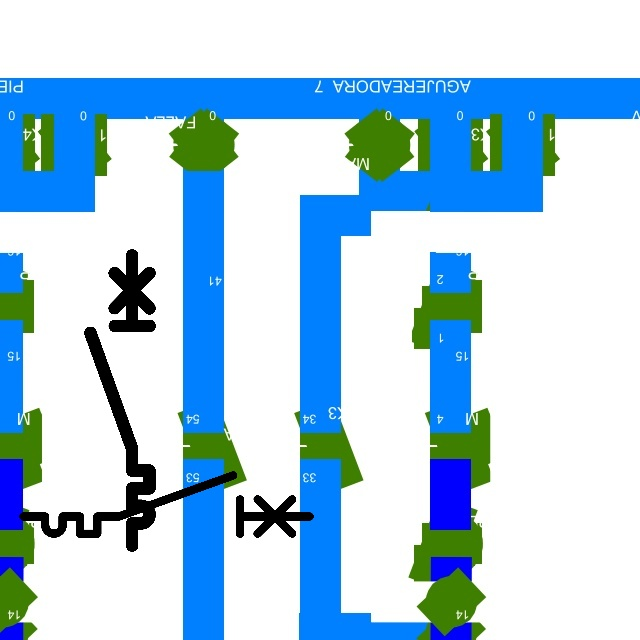interruptor_termomagnetico: (83, 248, 157, 553), (16, 468, 317, 541)
